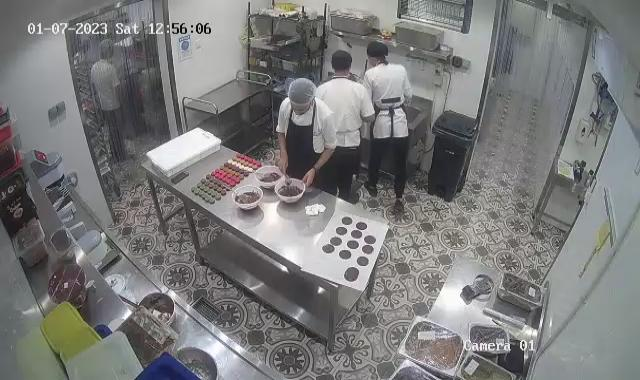hairnet: (286, 76, 316, 111)
no_hairnet: (330, 51, 352, 76), (363, 42, 391, 61)
